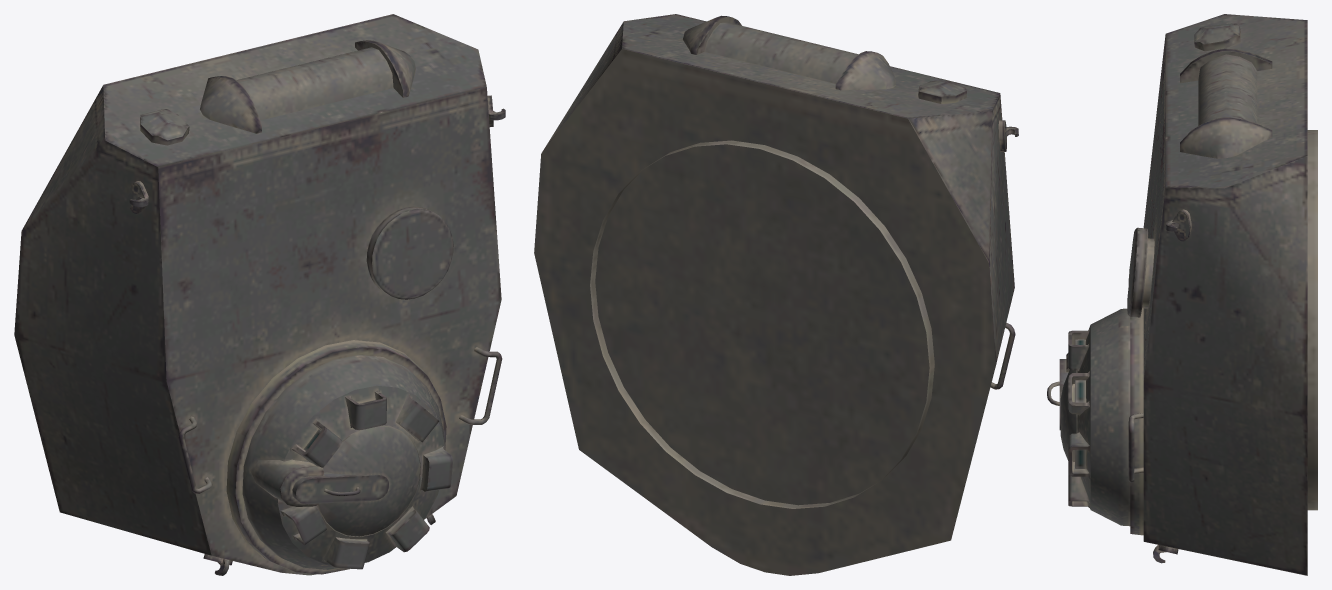
The model's file is Turret_02.glb.
The picture shows the model from 3 angles, left to right: view 1: azimuth 30°, elevation 25°; view 2: azimuth 150°, elevation 25°; view 3: azimuth 270°, elevation 25°; orthographic projection. The views are drawn at different scales.
Parts seen in each view (by area): view 1: set_0_group_0; view 2: set_0_group_0; view 3: set_0_group_0.
Part boxes in pixels (left/top/right/bottom): set_0_group_0: left=14, top=14, right=505, bottom=575; set_0_group_0: left=534, top=14, right=1018, bottom=575; set_0_group_0: left=1047, top=14, right=1317, bottom=575.
Bounding box in the file's own units: 2.04 × 2.11 × 1.07.
1 material, 1 textured.
